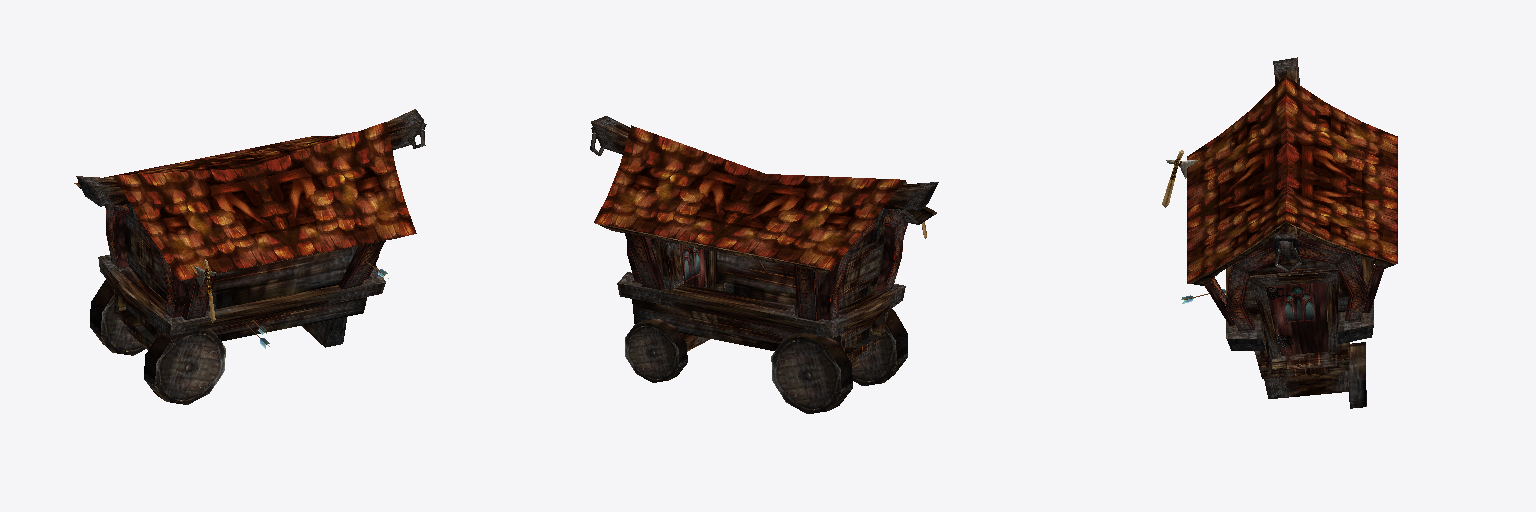
3 views of the same model, side by side, from view 1: azimuth 30°, elevation 25°; view 2: azimuth 150°, elevation 25°; view 3: azimuth 270°, elevation 25° (orthographic).
Visible parts, largest first — view 1: BurnedGypsywagon01; view 2: BurnedGypsywagon01; view 3: BurnedGypsywagon01.
Part boxes in pixels (x1,y1,x2,y2): BurnedGypsywagon01: (74,109,426,404); BurnedGypsywagon01: (590,116,938,413); BurnedGypsywagon01: (1162,57,1397,408).
Bounding box in the file's own units: 8.62 × 5.54 × 5.16.
Materials: 6 (6 with a texture image).